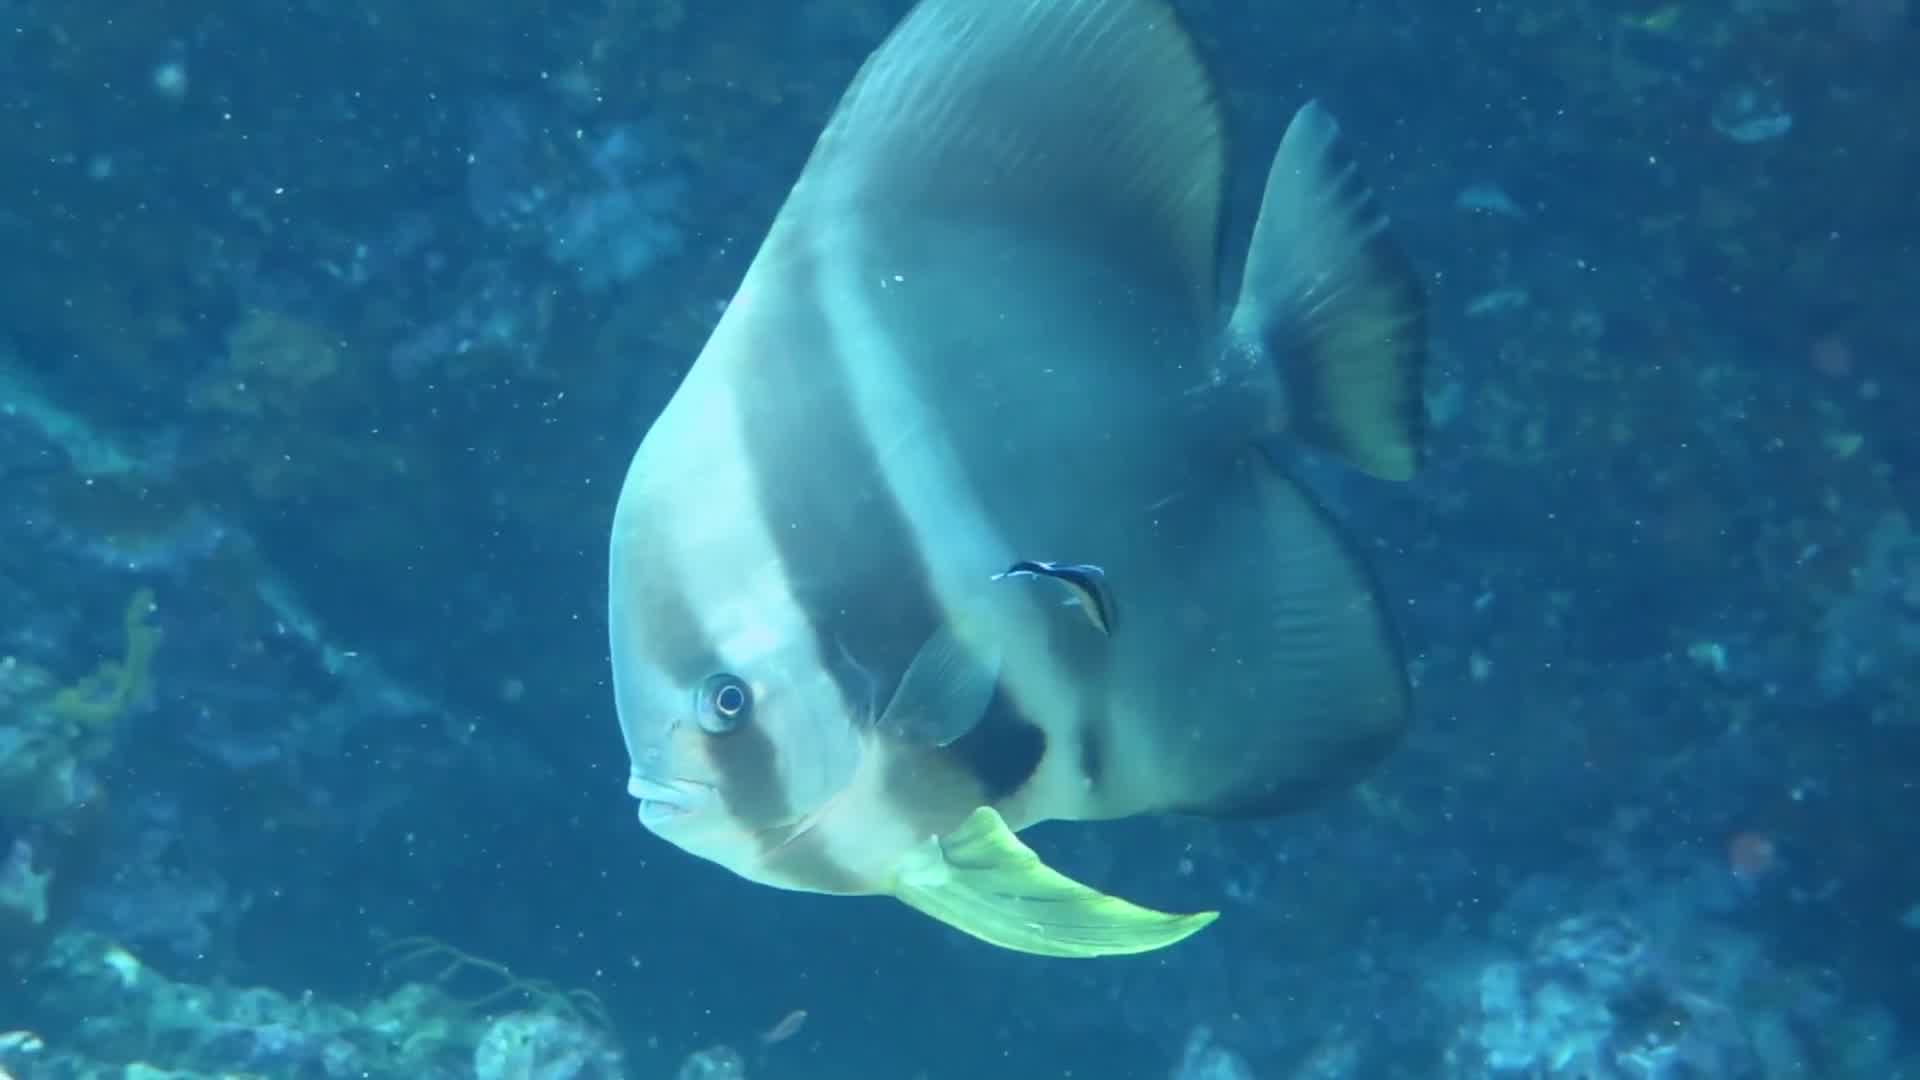Platax teira: (546, 1, 1502, 1067)
